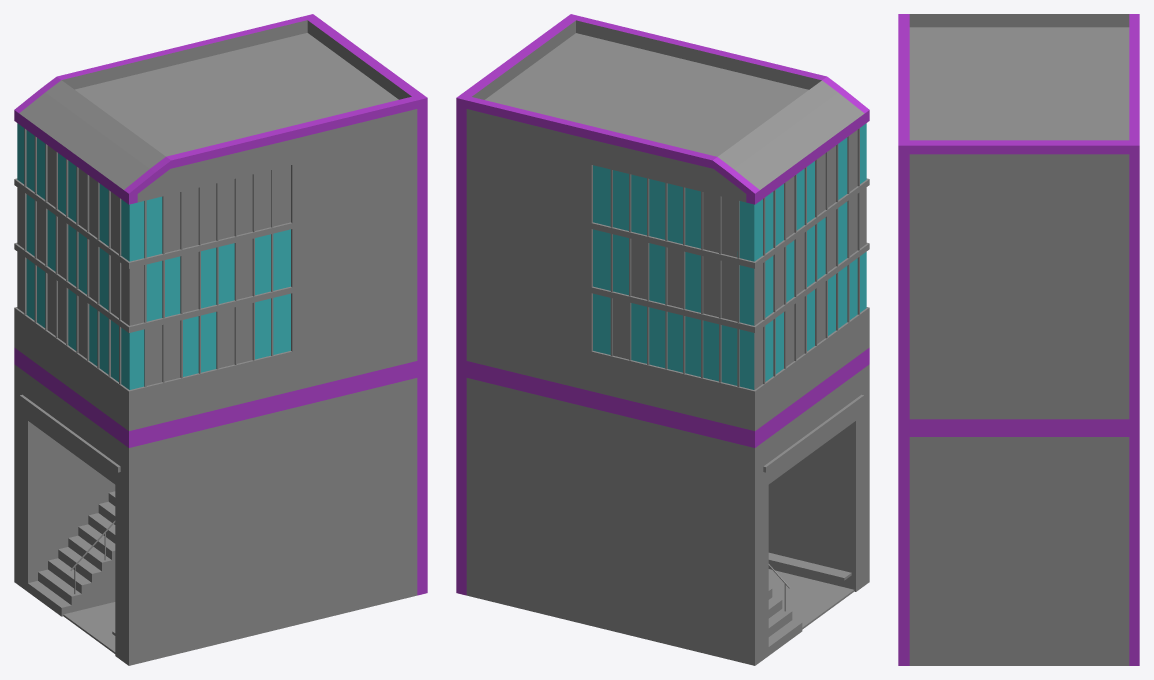
Rendered from buildings_S_02_VAR2.fbx.
3 views of the same model, side by side, from view 1: azimuth 30°, elevation 25°; view 2: azimuth 150°, elevation 25°; view 3: azimuth 270°, elevation 25° (orthographic). The views are drawn at different scales.
Parts seen in each view (by area): view 1: buildings_S_02_VAR2; view 2: buildings_S_02_VAR2; view 3: buildings_S_02_VAR2.
Part boxes in pixels (x1,y1,x2,y2): buildings_S_02_VAR2: (14, 14, 427, 665); buildings_S_02_VAR2: (456, 14, 869, 665); buildings_S_02_VAR2: (898, 14, 1139, 665).
Size of the model in its own units: 12.61 by 19.78 by 8.3.
